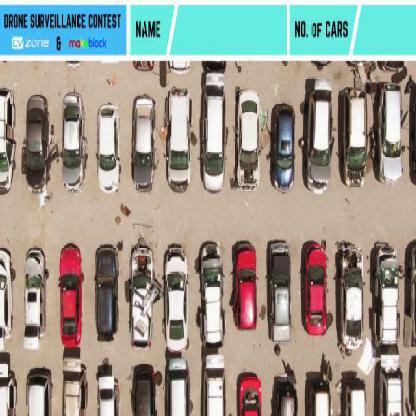car: (162, 245, 190, 354), (200, 76, 225, 193), (305, 82, 331, 194), (373, 244, 400, 348), (266, 241, 293, 344), (377, 84, 404, 186), (166, 94, 194, 192), (336, 250, 363, 351), (340, 91, 368, 188), (198, 244, 224, 348), (230, 242, 260, 332), (301, 242, 329, 337), (58, 245, 84, 346), (60, 93, 86, 193), (25, 95, 50, 192), (93, 244, 118, 340), (131, 245, 154, 349), (237, 89, 259, 193), (271, 104, 296, 194), (23, 248, 45, 350), (133, 98, 156, 193), (97, 104, 121, 194), (202, 354, 227, 415), (60, 355, 85, 415), (0, 90, 14, 195), (378, 359, 404, 415), (131, 364, 157, 415), (167, 360, 191, 415), (26, 369, 53, 415), (0, 248, 13, 338), (237, 373, 264, 415), (95, 378, 121, 415), (342, 379, 368, 415), (1, 363, 18, 415), (310, 380, 333, 415), (273, 383, 298, 415), (33, 320, 34, 322)
